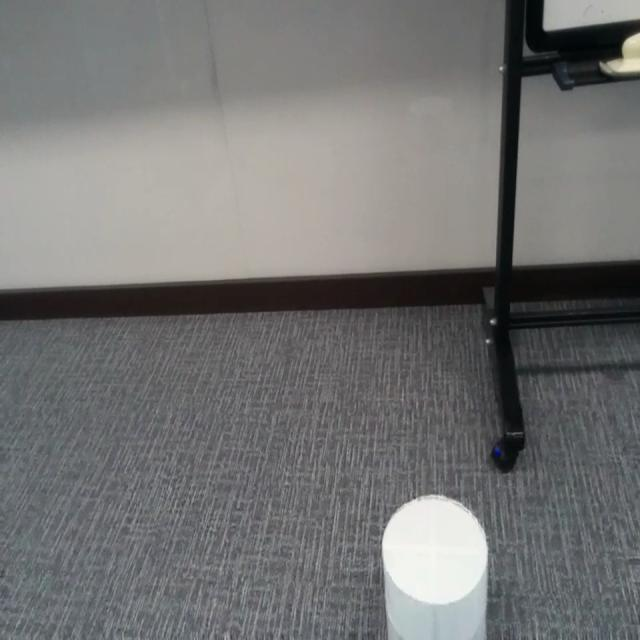cylinder: (379, 495, 488, 639)
